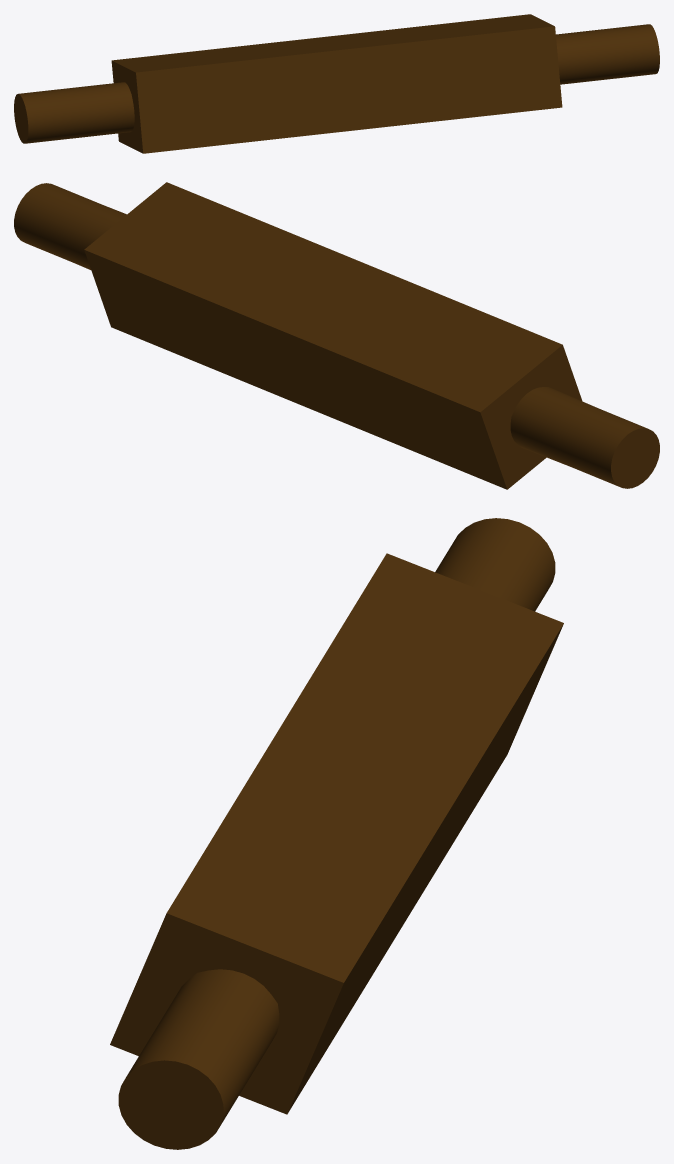
Rendered from Axl.gltf.
The picture shows the model from 3 angles, top to bottom: view 1: azimuth 30°, elevation 25°; view 2: azimuth 150°, elevation 25°; view 3: azimuth 270°, elevation 25°; orthographic projection. The views are drawn at different scales.
Visible parts, largest first — view 1: Axl; view 2: Axl; view 3: Axl.
Part boxes in pixels (x1,y1,x2,y2): Axl: [14, 14, 659, 153]; Axl: [14, 182, 659, 489]; Axl: [110, 518, 563, 1149].
Size of the model in its own units: 4.49 by 0.7395 by 1.58.
